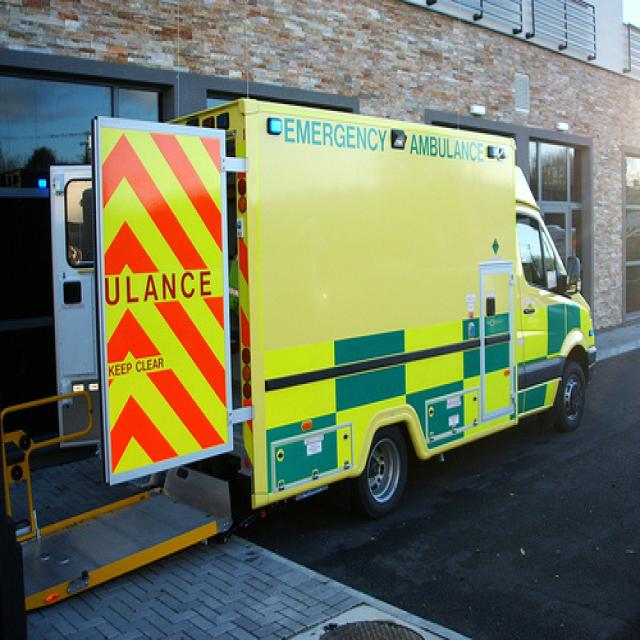emergency-vehicle: (224, 111, 596, 512)
